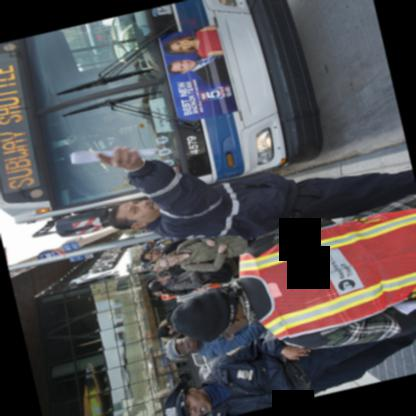backpack: (178, 288, 195, 295)
